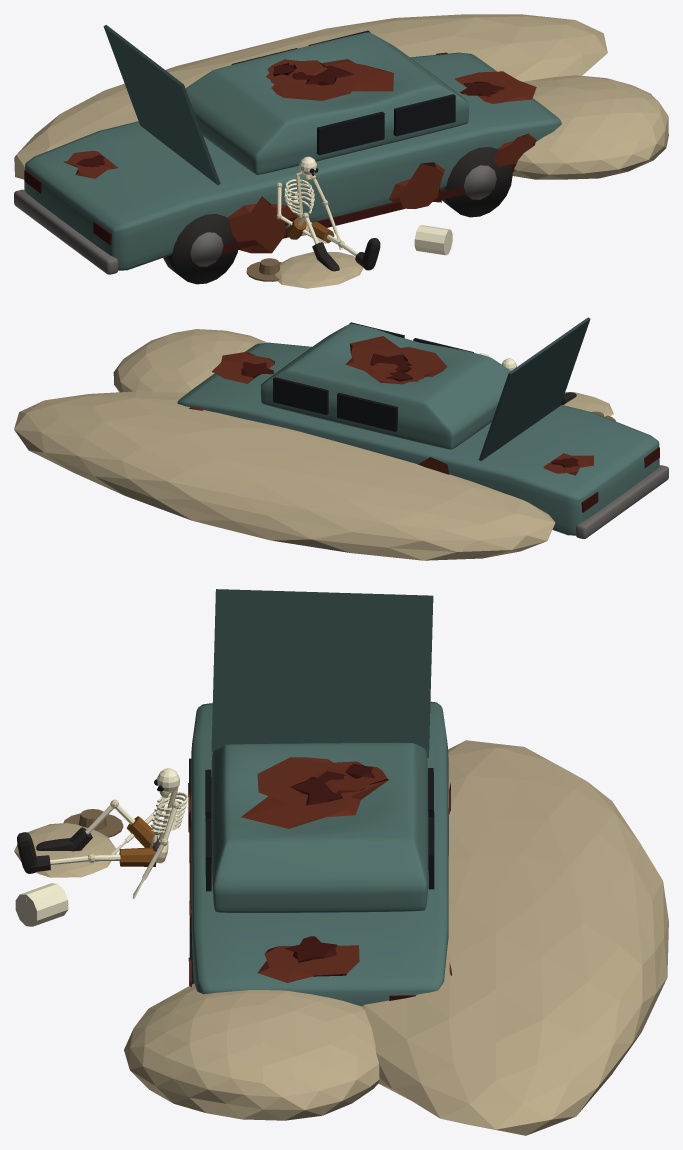
The model's file is desert_skeleton.glb.
The picture shows the model from 3 angles, top to bottom: view 1: azimuth 30°, elevation 25°; view 2: azimuth 150°, elevation 25°; view 3: azimuth 270°, elevation 25°; orthographic projection. The views are drawn at different scales.
Visible parts, largest first — view 1: desert_skeleton; view 2: desert_skeleton; view 3: desert_skeleton.
Boxes of the visible parts, x1,y1,x2,y2 form: desert_skeleton: [14, 14, 668, 288]; desert_skeleton: [14, 317, 668, 560]; desert_skeleton: [14, 589, 668, 1135].
Bounding box in the file's own units: 6.34 × 1.93 × 4.5.
